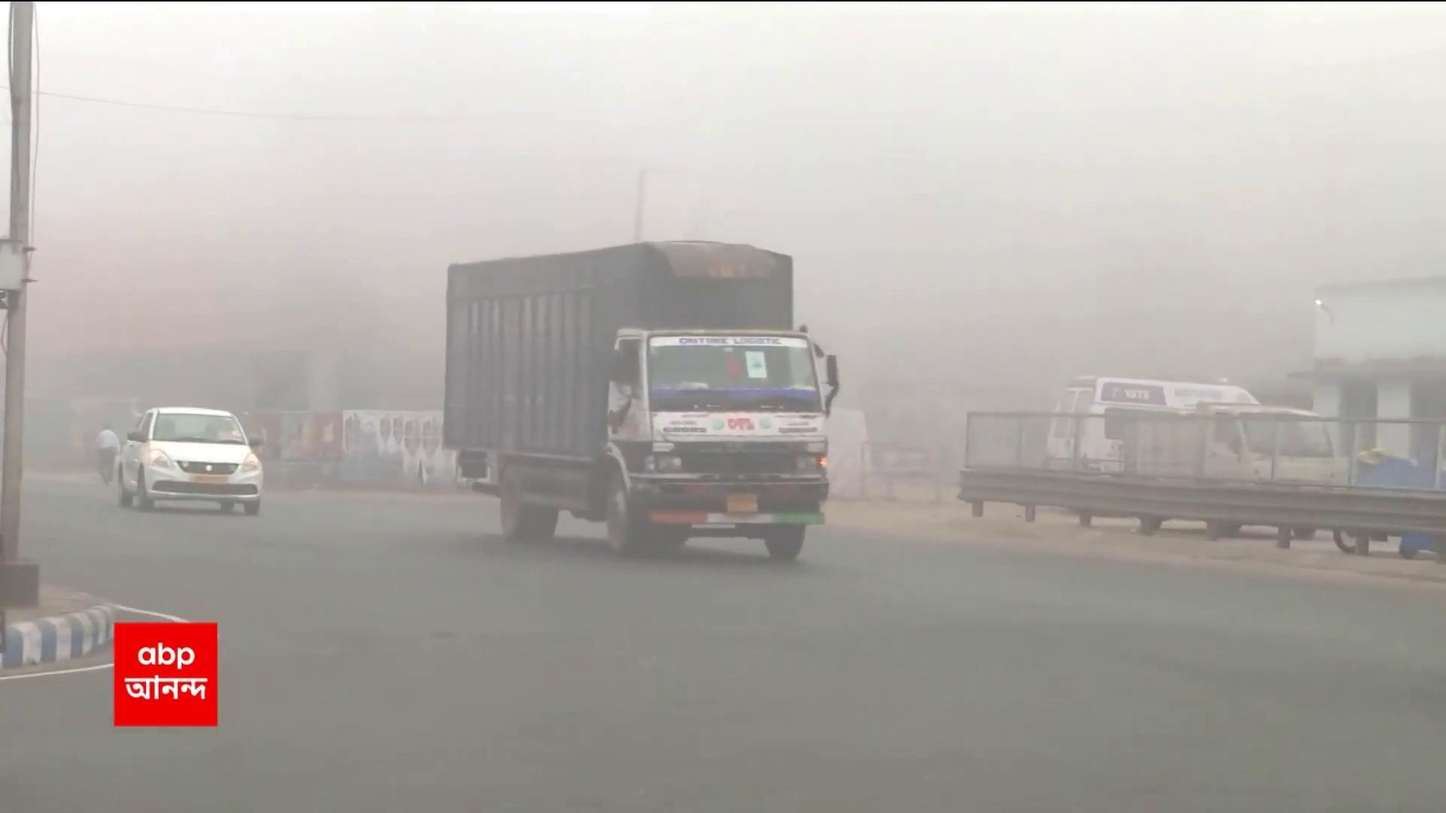Car: (115, 405, 265, 516)
Truck: (439, 237, 833, 563)
